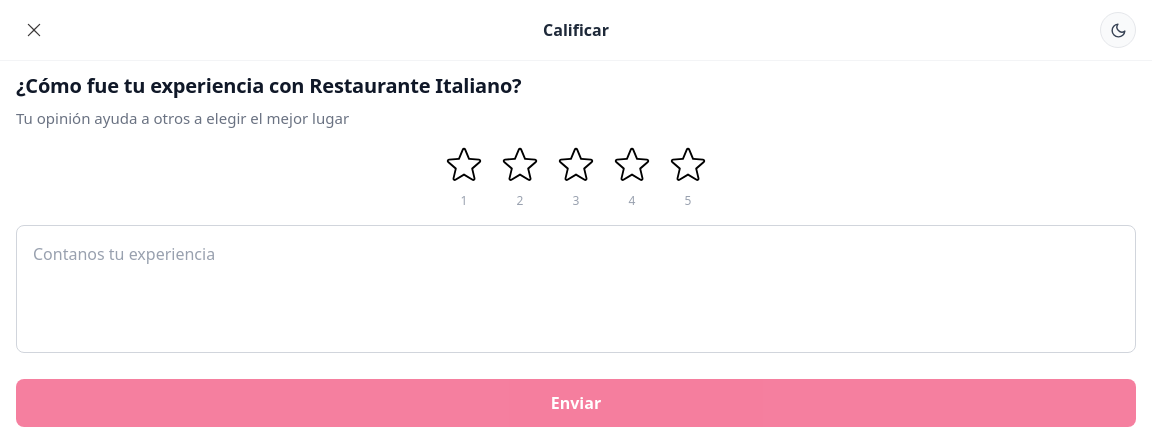
Scenario: CalificarLocal › actualiza la puntuación al hacer click en las estrellas
expect the button "Enviar" is shown: met, box [16,379,1136,427]
Click the 4th button with alt text "Estrella".
click(576, 165)  # box [552,141,600,189]
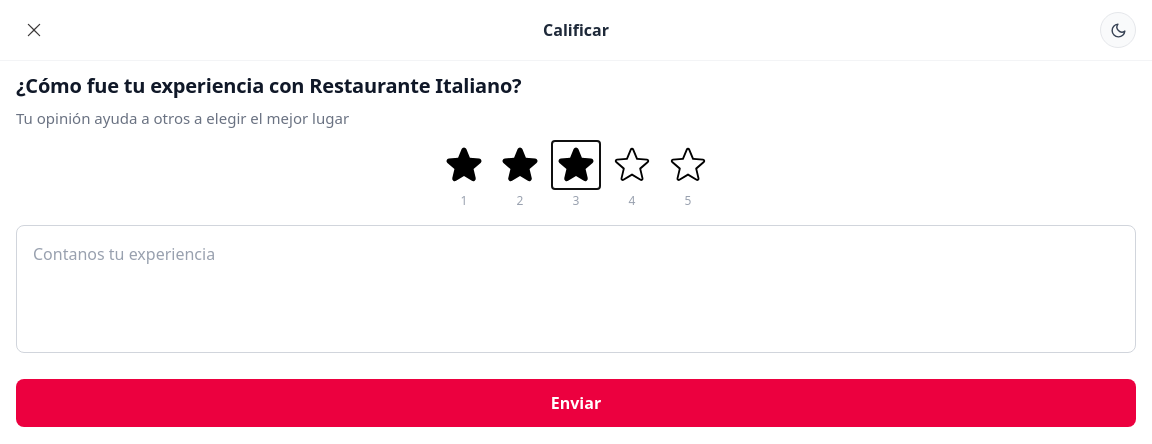
expect the button "Enviar" is enabled: met, box [16,379,1136,427]
